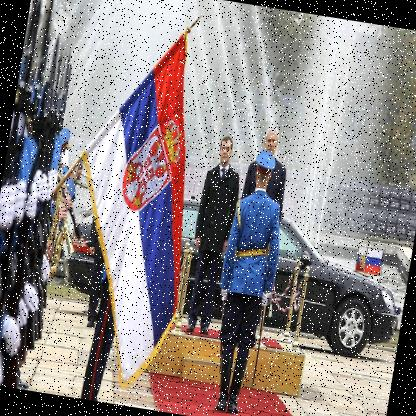rs: (47, 19, 221, 397)
